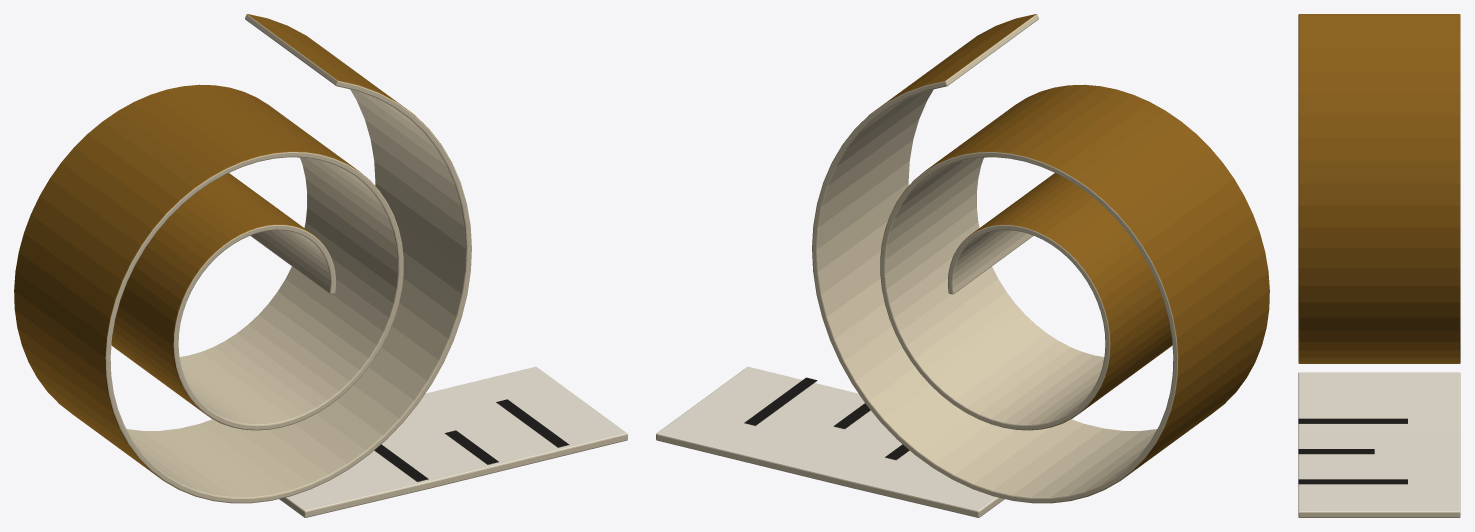
The model's file is achievement-baseline-set.glb.
3 renders of one model, left to right at view 1: azimuth 30°, elevation 25°; view 2: azimuth 150°, elevation 25°; view 3: azimuth 270°, elevation 25°, orthographic. The views are drawn at different scales.
Parts seen in each view (by area): view 1: achievement-baseline-set; view 2: achievement-baseline-set; view 3: achievement-baseline-set.
Part boxes in pixels (x1,y1,x2,y2): achievement-baseline-set: [14, 14, 627, 517]; achievement-baseline-set: [656, 14, 1269, 517]; achievement-baseline-set: [1298, 14, 1460, 517].
Bounding box in the file's own units: 1.11 × 0.877 × 0.34.
